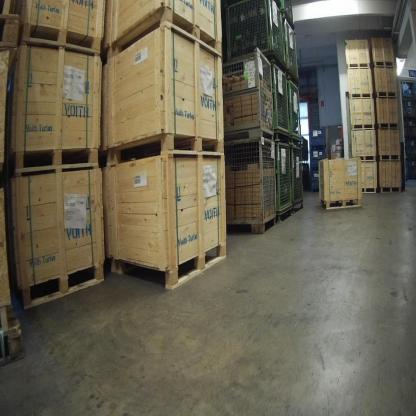pallets: (109, 236, 227, 296), (225, 201, 303, 237), (357, 184, 406, 195)
